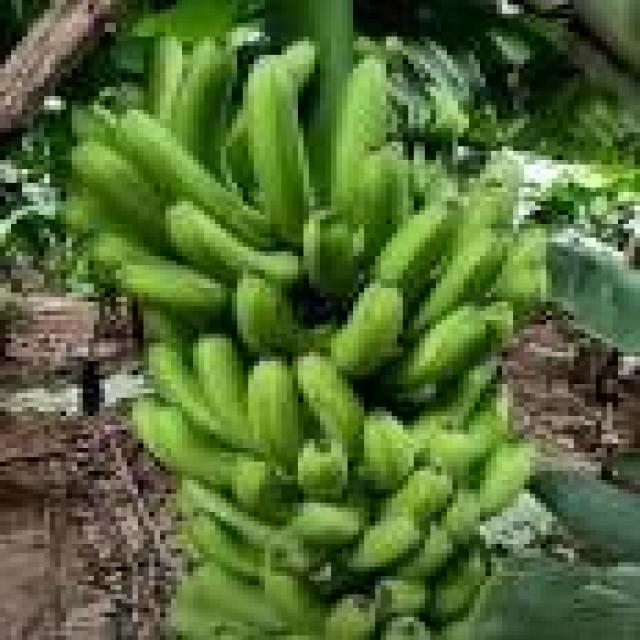banana: (116, 110, 270, 246), (243, 55, 308, 246), (166, 202, 303, 287), (149, 343, 248, 447), (409, 229, 507, 333), (72, 138, 165, 246), (332, 55, 391, 223), (387, 307, 491, 393), (133, 398, 231, 489), (172, 42, 237, 169), (144, 343, 226, 443), (376, 202, 457, 301), (177, 563, 286, 635), (298, 352, 364, 457), (194, 334, 253, 447), (354, 147, 413, 260), (332, 284, 402, 379), (116, 261, 226, 319), (249, 357, 303, 475), (458, 151, 524, 246), (183, 480, 275, 548), (232, 275, 303, 356), (492, 224, 551, 319), (183, 512, 264, 580), (166, 206, 237, 283), (304, 215, 358, 297), (260, 567, 325, 635), (359, 412, 413, 493), (475, 444, 535, 516), (381, 467, 452, 525), (414, 426, 485, 484), (348, 517, 424, 571), (436, 362, 496, 429), (431, 554, 485, 621), (287, 503, 364, 548), (221, 110, 259, 201), (232, 458, 286, 521), (464, 394, 513, 461), (149, 37, 187, 123), (398, 526, 457, 580), (61, 188, 121, 237), (265, 526, 325, 575), (298, 439, 347, 498), (144, 307, 198, 356), (89, 234, 154, 274), (409, 151, 457, 205), (425, 83, 468, 141), (320, 595, 375, 639), (376, 576, 430, 617), (442, 490, 479, 543), (480, 302, 518, 351), (282, 42, 319, 91), (72, 101, 115, 141), (381, 613, 435, 639), (436, 618, 474, 639)
